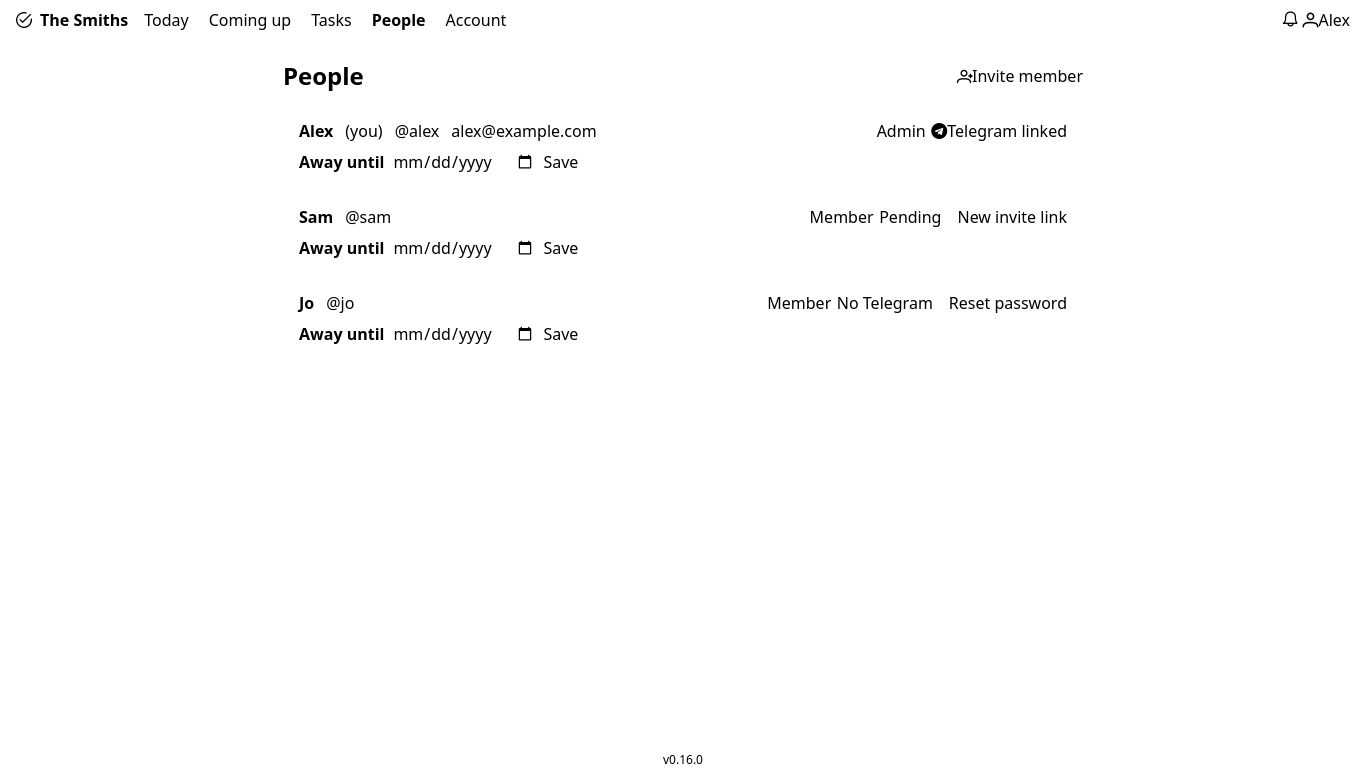
MembersPage › lets admins start a password reset for someone else
The width and height of the screenshot is (1366, 768).
Click the button "Reset password" at coordinates (1008, 303), box left=949, top=292, right=1067, bottom=314
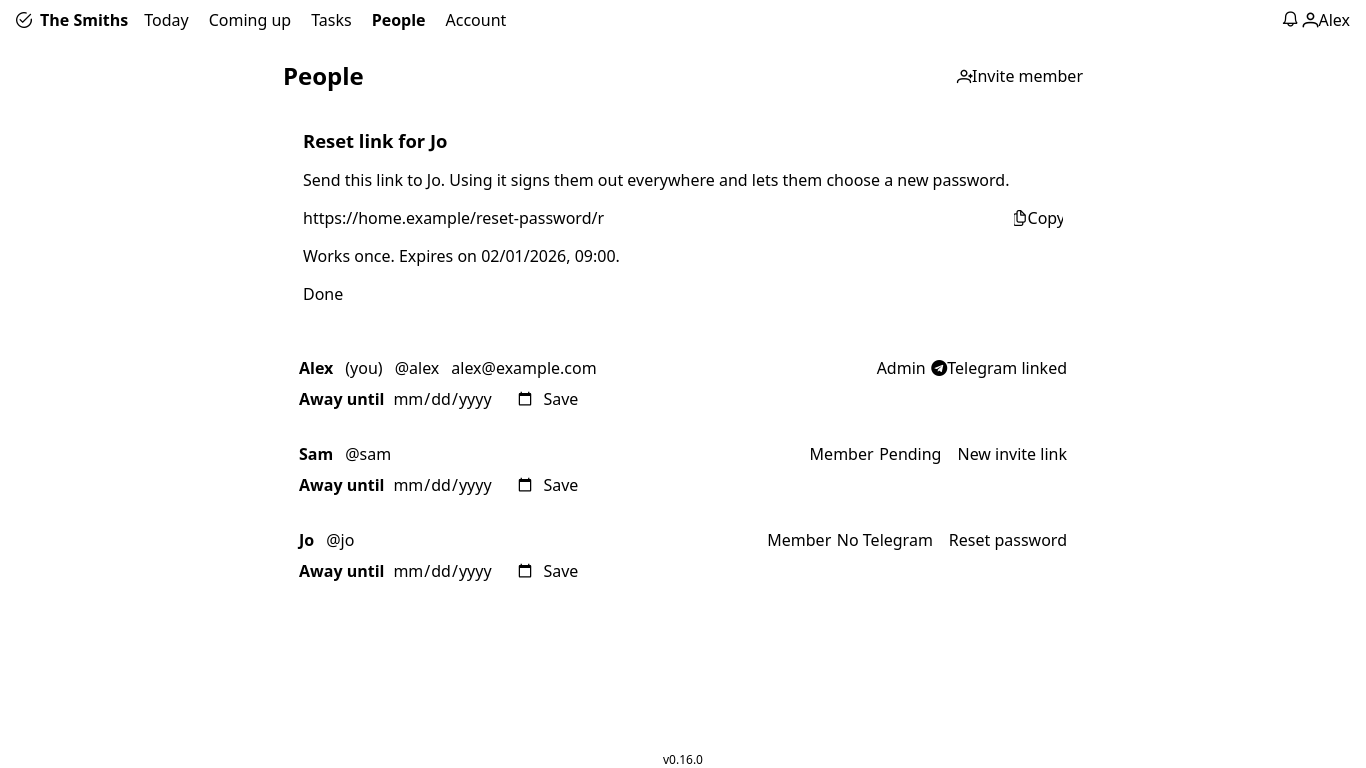
Expected: the heading "Reset link for Jo" is shown, left=303, top=128, right=447, bottom=153
Expected: the field named "One-time link" holds "https://home.example/reset-password/r", left=303, top=207, right=1006, bottom=229
